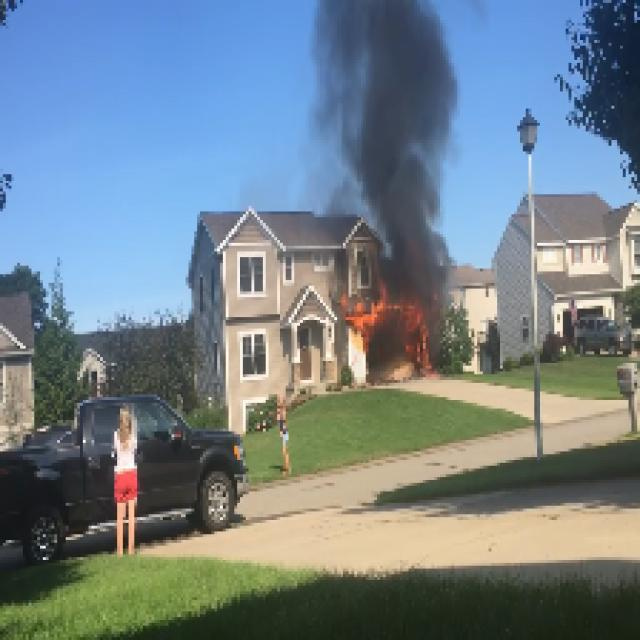Smoke: (366, 20, 452, 302)
